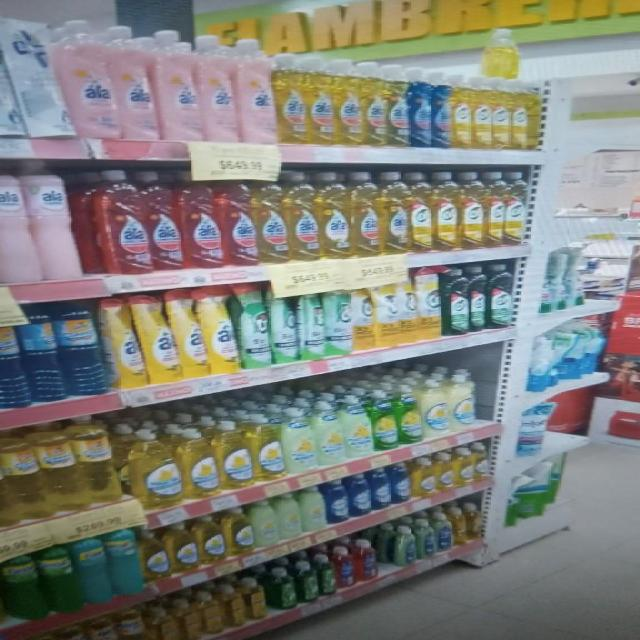ala_conc_amarillo: (286, 172, 318, 262), (256, 172, 286, 264), (276, 56, 306, 144), (319, 172, 349, 260), (350, 171, 379, 258), (306, 58, 334, 146), (381, 170, 408, 255), (336, 60, 361, 146), (363, 62, 387, 147), (387, 65, 409, 147)
ala_conc_azul: (411, 68, 432, 148), (432, 73, 451, 148)
ala_conc_rojo: (98, 170, 148, 275), (181, 169, 220, 269), (221, 170, 255, 268), (149, 170, 181, 271)
ala_crem_rosado: (32, 158, 82, 281), (0, 158, 32, 284)
ala_sachet_amarillo: (206, 286, 236, 374)
ala_ultra_rosa: (61, 21, 115, 140), (157, 29, 199, 143), (116, 26, 154, 142), (238, 36, 274, 144), (201, 34, 236, 143)
cif_conc_bot_amarilla: (434, 171, 458, 251), (409, 172, 433, 252), (460, 171, 484, 250), (505, 172, 527, 246), (486, 171, 506, 248), (472, 76, 491, 150), (452, 75, 471, 149), (511, 80, 531, 150), (492, 79, 510, 150)
cif_conc_botella_verde: (444, 267, 469, 335), (489, 264, 515, 328), (470, 266, 486, 332)
magistral_con_amarillo: (130, 426, 180, 509), (182, 424, 217, 500), (218, 418, 252, 490), (253, 410, 283, 482), (450, 371, 478, 431), (423, 375, 449, 438), (169, 522, 198, 574), (199, 513, 224, 565)
